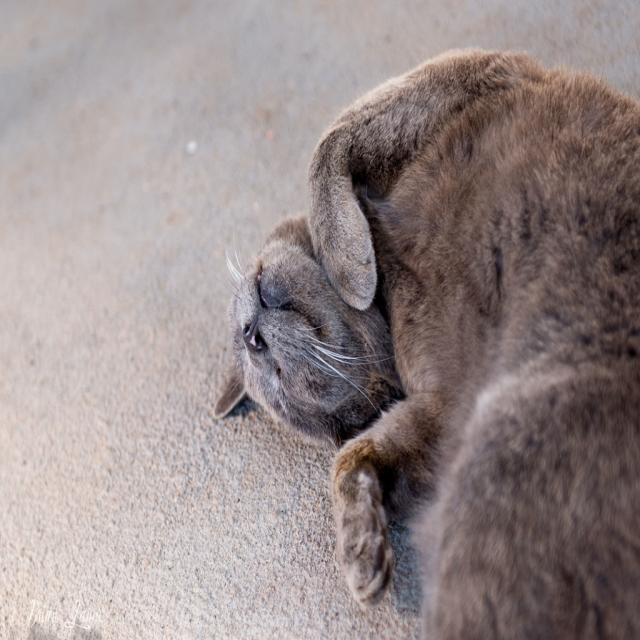Cat: (215, 45, 639, 634)
